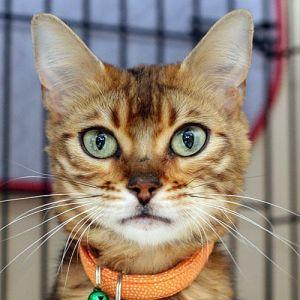bengal: (19, 1, 269, 258)
